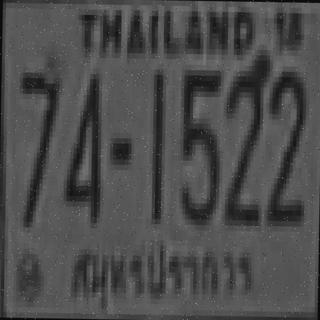N01: (148, 69, 163, 224)
N02: (223, 60, 262, 220), (266, 68, 305, 224)
N04: (63, 70, 102, 220)
N05: (179, 67, 218, 222)
N07: (17, 69, 59, 225)
P57: (67, 238, 255, 314)
